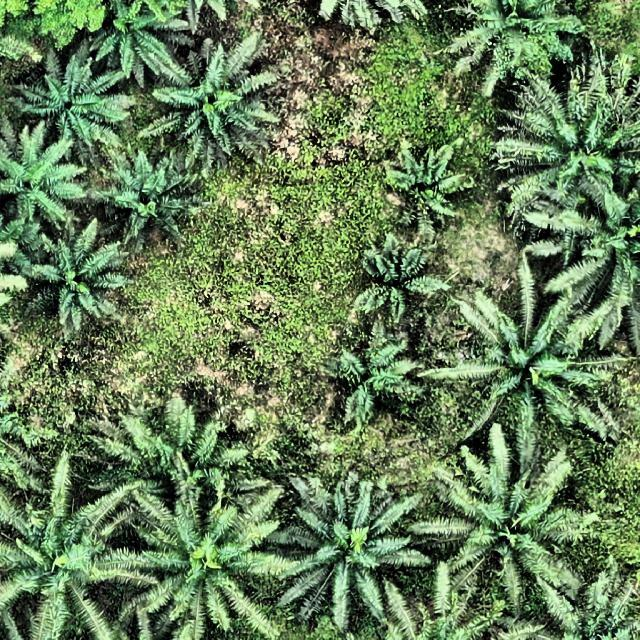Kelapa_Sawit: (434, 450, 574, 605), (506, 84, 640, 225), (283, 478, 425, 610), (3, 486, 127, 630), (139, 502, 275, 618), (474, 286, 584, 425), (116, 414, 247, 520), (561, 182, 640, 321), (169, 60, 272, 156), (460, 0, 574, 86), (1, 131, 80, 242), (31, 54, 117, 154), (45, 232, 136, 324), (94, 1, 182, 78), (116, 156, 192, 242), (366, 247, 442, 321), (342, 338, 417, 409), (396, 142, 460, 225)
